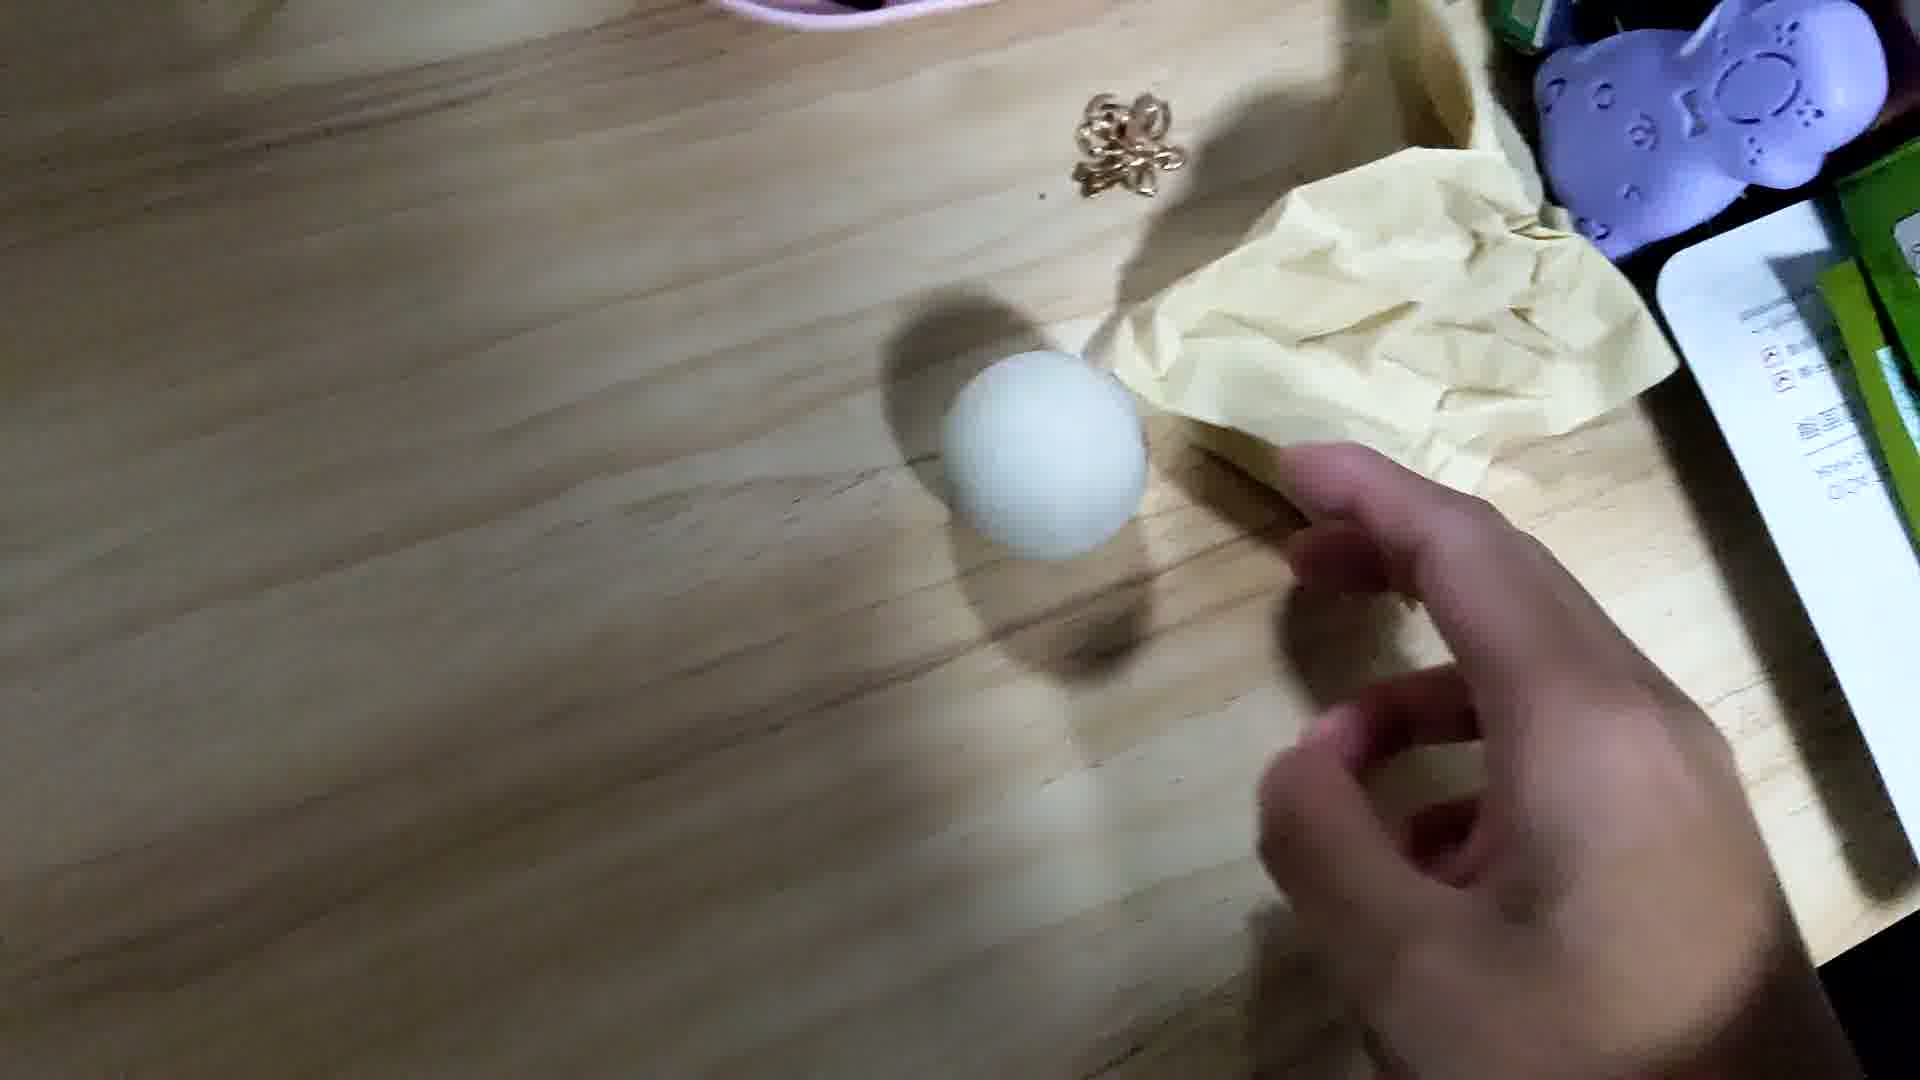Ball: (943, 348, 1156, 566)
